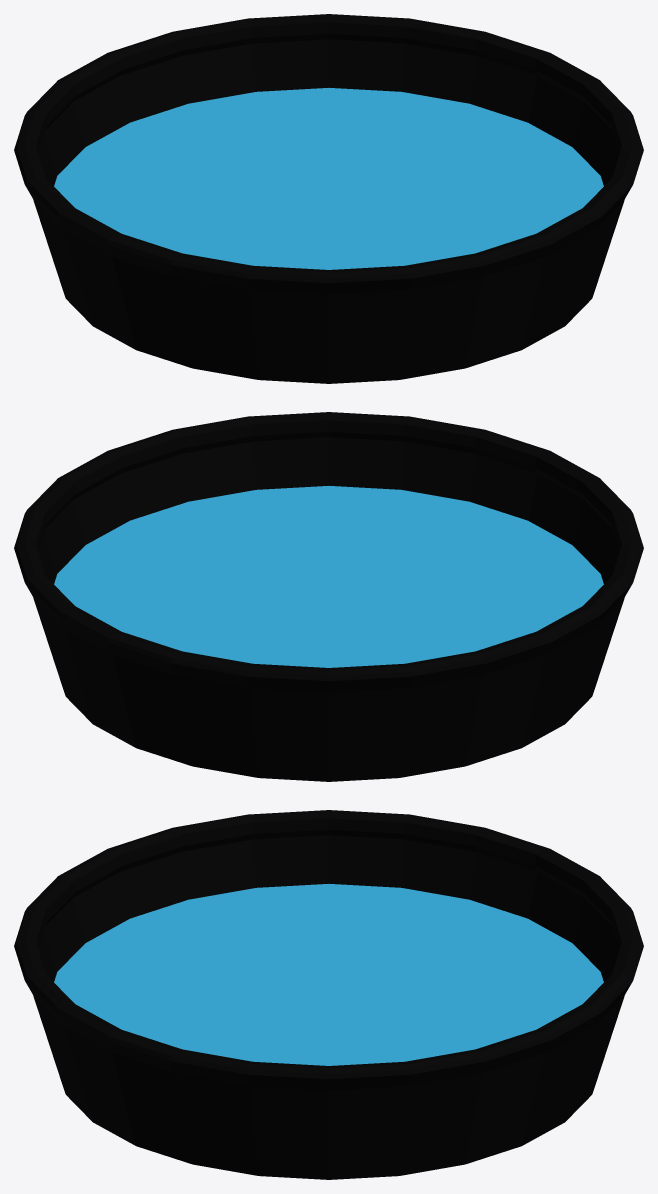
The model's file is WaterDishPoly.fbx.
3 views of the same model, one above another, from view 1: azimuth 30°, elevation 25°; view 2: azimuth 150°, elevation 25°; view 3: azimuth 270°, elevation 25° (orthographic).
Parts seen in each view (by area): view 1: Lathe, Lathe_1; view 2: Lathe, Lathe_1; view 3: Lathe, Lathe_1.
Part boxes in pixels (x1,y1,x2,y2): Lathe: (14, 14, 643, 383); Lathe_1: (54, 88, 603, 269); Lathe: (14, 412, 643, 781); Lathe_1: (54, 486, 603, 667); Lathe: (14, 810, 643, 1179); Lathe_1: (54, 884, 603, 1065).
Bounding box in the file's own units: 928 × 203 × 928.
